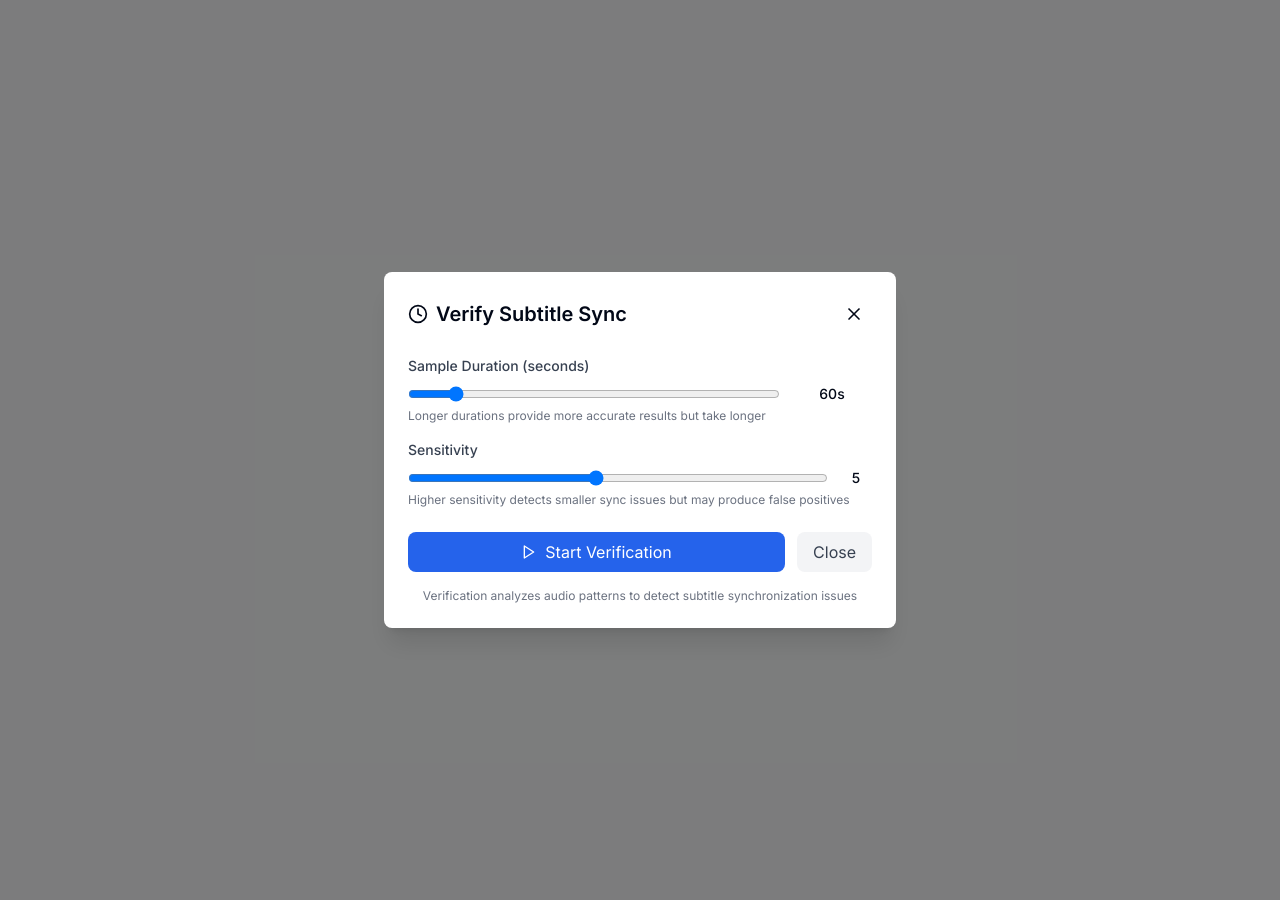
Test: SubtitleSyncModal › Verification flow › displays good sync result with positive offset
Click the button "Start Verification" at {"x": 597, "y": 552}, box [408,532,785,572]
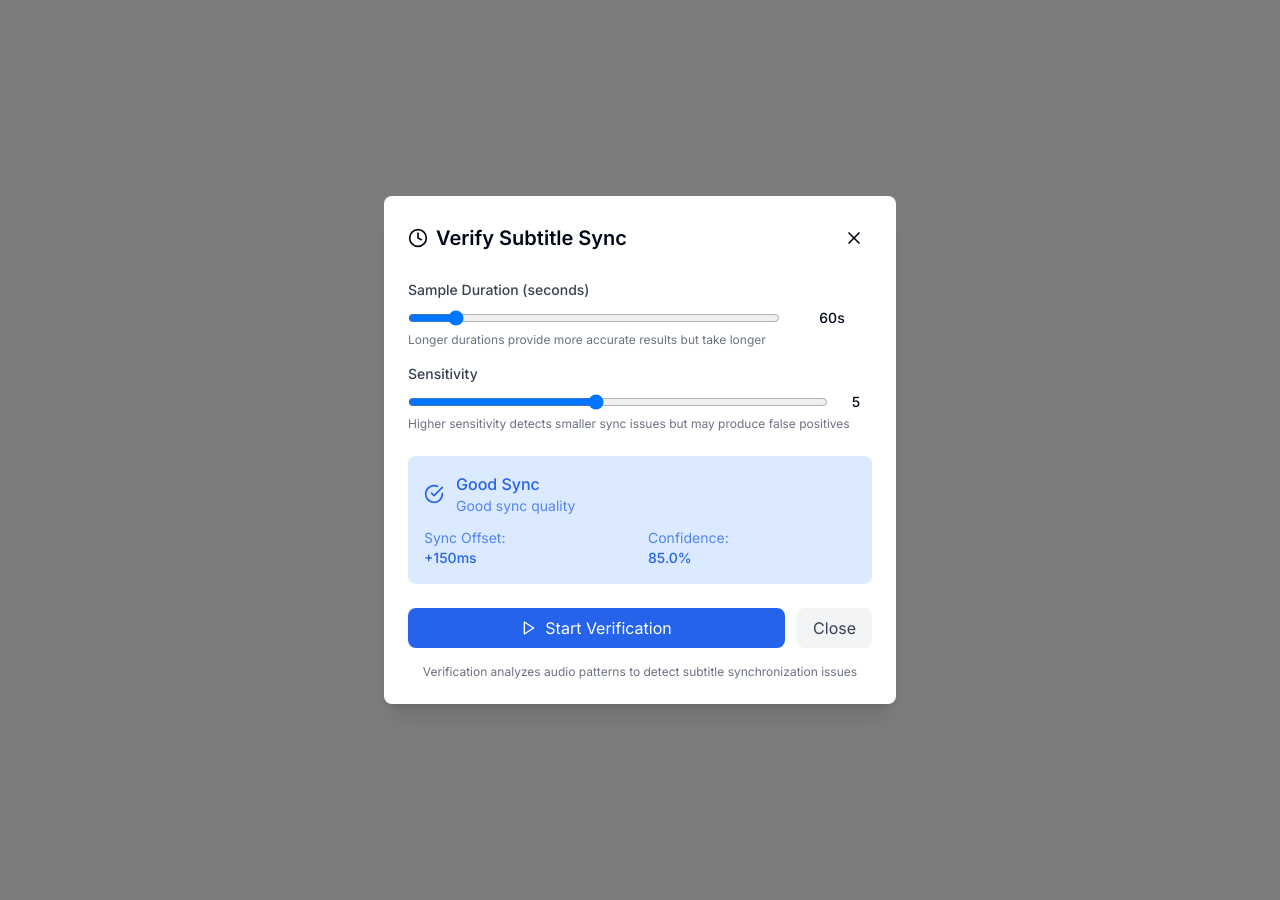
Now the text "good Sync" is shown, box [456,474,540,494]
Now the text "+150ms" is shown, box [424,549,477,566]
Now the text "85.0%" is shown, box [648,549,692,566]
